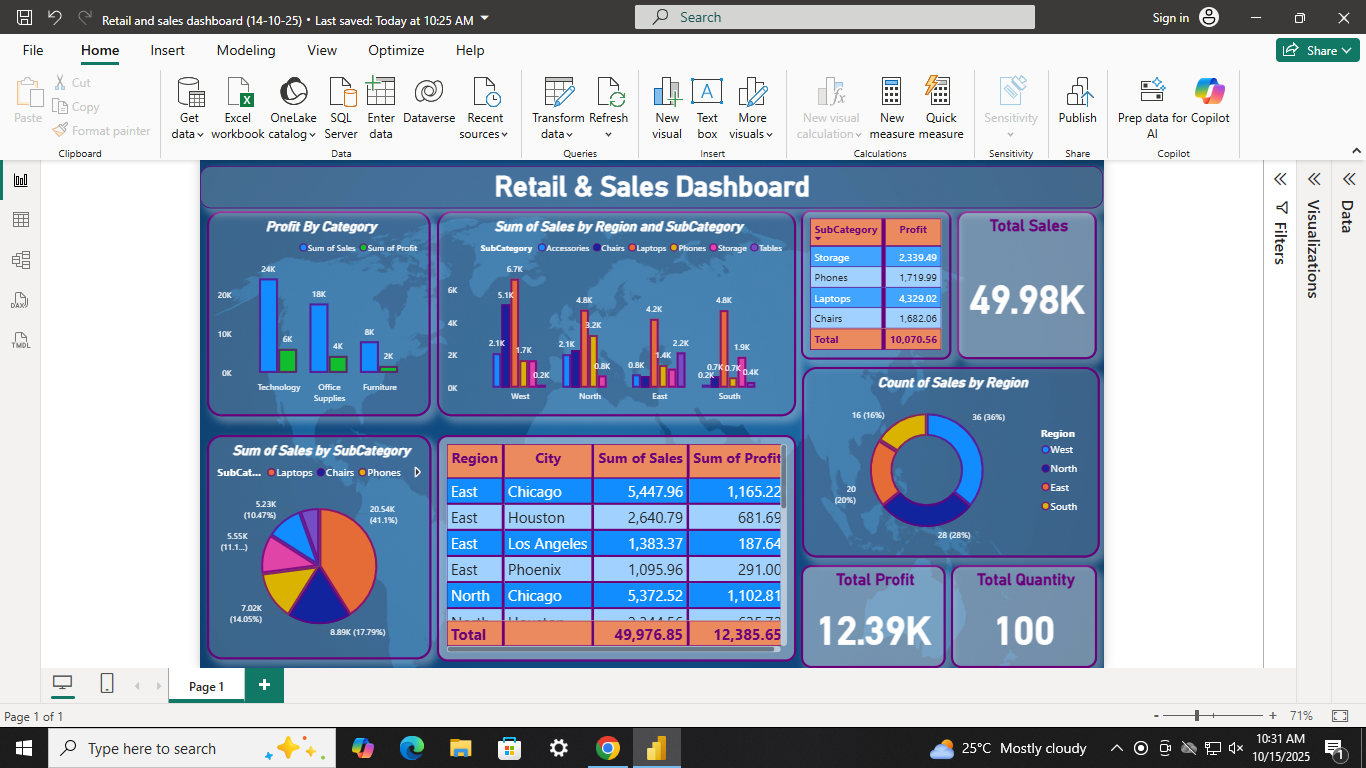

Layout of this report page (visuals, bound fields, positions):
{"tool":"powerbi","page":{"name":"Page 1","canvas":[1280,720],"ordinal":0},"visuals":[{"type":"pieChart","fields":{"Category":["product_table_sample.SubCategory"],"Y":["Sum(sales_table_sample.Sales)"]},"box":[10.3,390.2,318.3,318.3],"z":0},{"type":"clusteredColumnChart","title":"Profit By Category","fields":{"Y":["Sum(sales_table_sample.Sales)","Sum(sales_table_sample.Profit)"],"Category":["product_table_sample.Category"]},"box":[10.1,72.2,317.5,290.6],"z":1000},{"type":"clusteredColumnChart","fields":{"Y":["Sum(sales_table_sample.Sales)"],"Category":["customer_table_sample.Region"],"Series":["product_table_sample.SubCategory"]},"box":[336,72.2,509,290.6],"z":2000},{"type":"tableEx","fields":{"Values":["customer_table_sample.Region","customer_table_sample.City","Sum(sales_table_sample.Sales)","Sum(sales_table_sample.Profit)"]},"box":[336,389.7,509,320.8],"z":3000},{"type":"card","title":"Total Sales","fields":{"Values":["Sum(sales_table_sample.Sales)"]},"box":[1073.4,72.2,198.2,210],"z":4000},{"type":"card","title":"Total Profit","fields":{"Values":["Sum(sales_table_sample.Profit)"]},"box":[851.7,573.9,204.9,146.1],"z":5000},{"type":"card","title":"Total Quantity","fields":{"Values":["CountNonNull(sales_table_sample.Quantity)"]},"box":[1065,573.9,206.6,146.1],"z":6000},{"type":"tableEx","fields":{"Values":["product_table_sample.SubCategory","Sum(sales_table_sample.Profit)"]},"box":[851.7,70.6,213.3,211.7],"z":7000},{"type":"donutChart","fields":{"Y":["Count(sales_table_sample.Sales)"],"Category":["customer_table_sample.Region"]},"box":[853.3,294,421.6,270.4],"z":8000},{"type":"textbox","title":"Retail & Sales Dashboard","box":[0,8.4,1280,60.5],"z":9000}]}

Visuals, with their boxes on the page's 1280x720 design canvas (x1, y1, x2, y2). These are canvas units, not pixel positions in the 1366x768 screenshot, which may show the page scaled, cropped or inside an application window:
pieChart - product_table_sample.SubCategory x Sum(sales_table_sample.Sales): [10, 390, 329, 708]
"Profit By Category" clusteredColumnChart: [10, 72, 328, 363]
clusteredColumnChart - Sum(sales_table_sample.Sales) x customer_table_sample.Region: [336, 72, 845, 363]
tableEx - customer_table_sample.Region x customer_table_sample.City: [336, 390, 845, 710]
"Total Sales" card: [1073, 72, 1272, 282]
"Total Profit" card: [852, 574, 1057, 720]
"Total Quantity" card: [1065, 574, 1272, 720]
tableEx - product_table_sample.SubCategory x Sum(sales_table_sample.Profit): [852, 71, 1065, 282]
donutChart - Count(sales_table_sample.Sales) x customer_table_sample.Region: [853, 294, 1275, 564]
"Retail & Sales Dashboard" textbox: [0, 8, 1280, 69]
